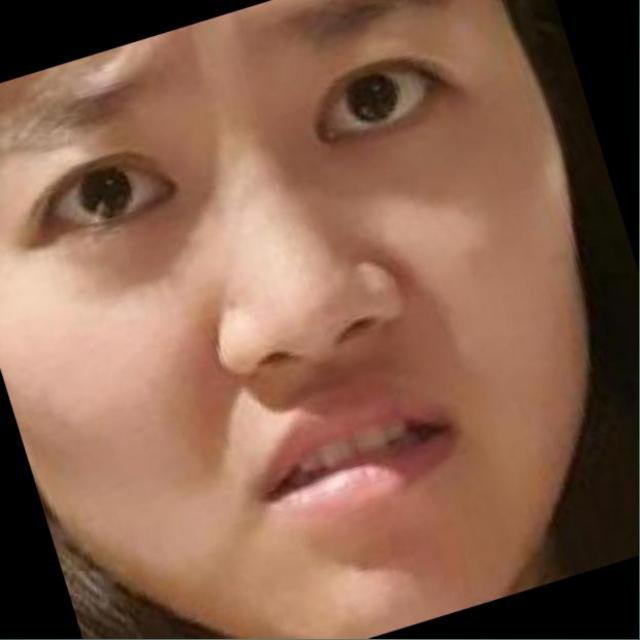Disgust: (6, 11, 640, 640)
